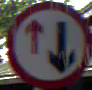Two way: (6, 4, 88, 83)
